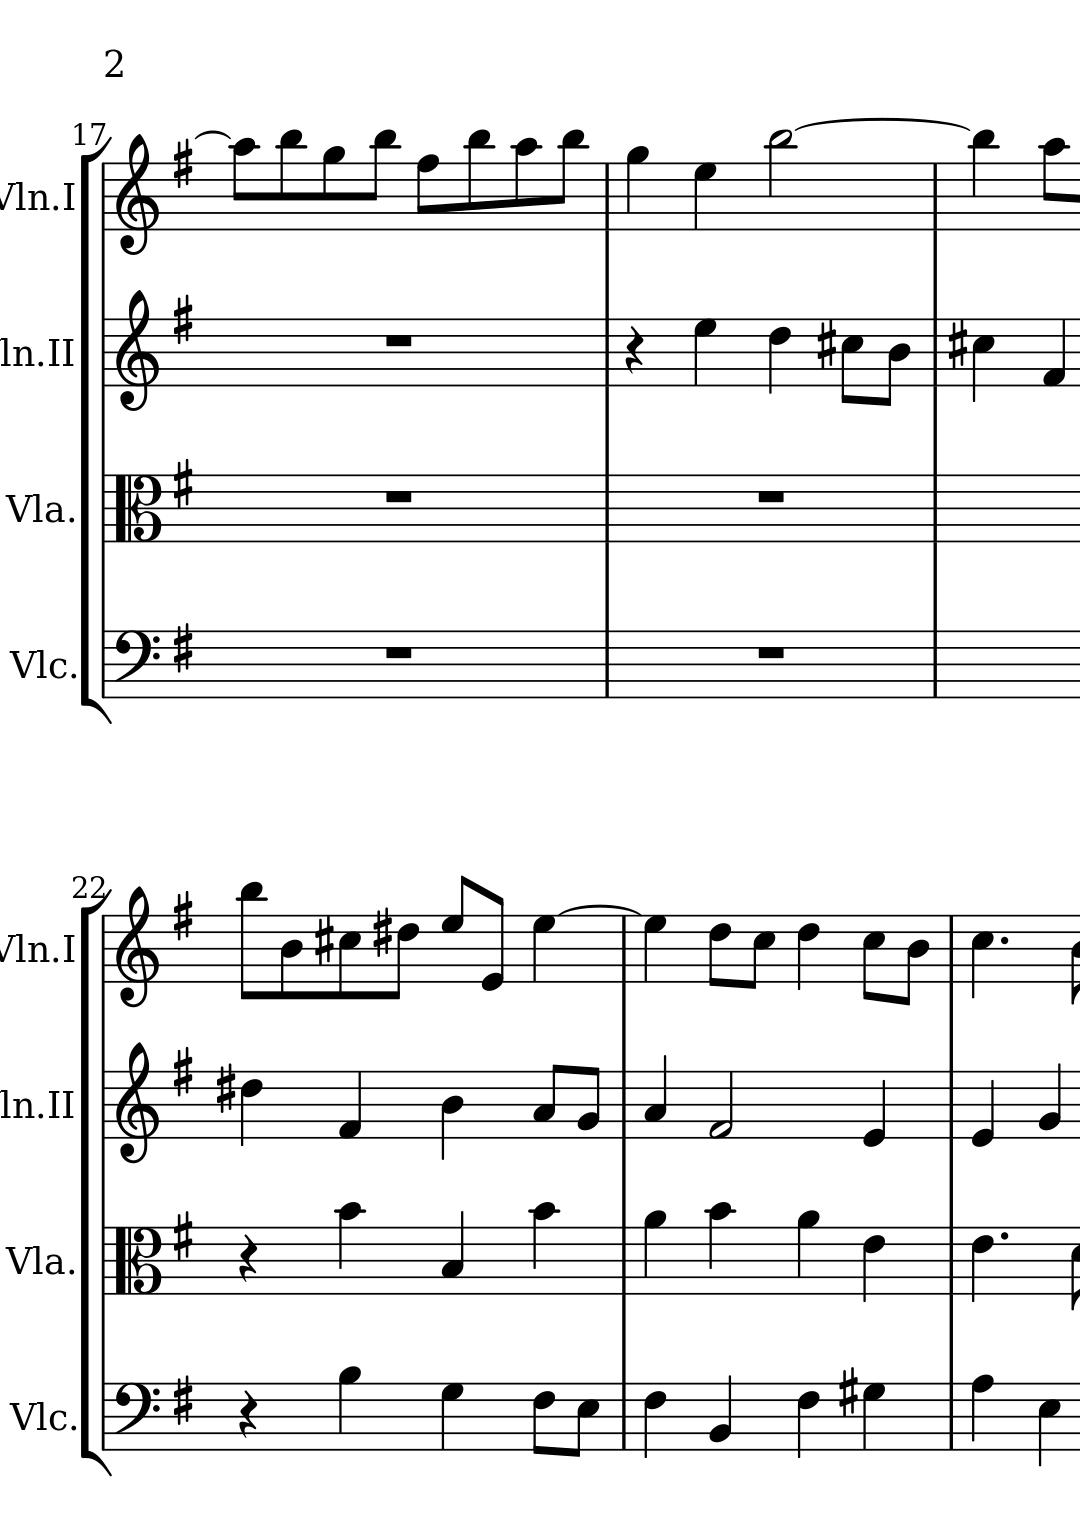1: (72, 120, 86, 148)
2: (101, 47, 125, 78), (86, 873, 108, 900), (69, 874, 88, 901)
2_1: (707, 1069, 735, 1143)
2_11: (764, 127, 792, 233)
4_0: (861, 1069, 888, 1148), (970, 1069, 996, 1148)
4_1: (1039, 317, 1067, 388), (335, 1070, 364, 1141)
4_10: (528, 1199, 558, 1297), (705, 1199, 733, 1298), (334, 1202, 362, 1297)
4_11: (969, 127, 996, 233)
4_2: (707, 1373, 734, 1453), (1037, 1062, 1062, 1141)
4_3: (439, 1209, 468, 1297), (642, 1053, 669, 1140)
4_4: (438, 1069, 464, 1162)
4_5: (1036, 1380, 1062, 1470), (970, 316, 996, 405), (969, 912, 994, 1001)
4_6: (641, 1381, 667, 1460), (968, 1225, 995, 1304), (795, 1381, 821, 1461), (766, 316, 791, 394), (795, 913, 821, 991), (860, 1225, 886, 1304), (238, 1069, 263, 1146)
4_7: (691, 316, 718, 388), (860, 1380, 887, 1452), (691, 160, 718, 231), (438, 1381, 465, 1452), (641, 912, 666, 986), (529, 912, 555, 984)
4_8: (967, 1373, 995, 1453)
4_9: (641, 1208, 667, 1297), (794, 1208, 821, 1297), (624, 144, 651, 231), (335, 1364, 361, 1452)
7: (90, 120, 108, 147)
8_0: (479, 891, 507, 993)
8_10: (229, 137, 259, 231), (511, 136, 538, 233), (1040, 136, 1067, 231)
8_11: (237, 880, 266, 1003), (365, 127, 399, 233), (553, 127, 586, 231), (276, 127, 304, 233), (464, 127, 492, 233)
8_2: (576, 1065, 601, 1140)
8_3: (531, 1062, 563, 1141)
8_4: (898, 913, 929, 1008), (879, 316, 911, 408), (277, 913, 303, 1001)
8_5: (567, 1380, 600, 1459), (745, 913, 776, 990), (335, 913, 361, 1002), (860, 912, 885, 1004), (839, 316, 864, 405)
8_6: (385, 912, 420, 1002), (529, 1381, 556, 1457), (706, 912, 732, 989)
8_7: (438, 873, 469, 984)
8_8: (414, 153, 439, 233)
8_9: (319, 145, 345, 233)
Bracke: (76, 887, 113, 1473), (77, 134, 112, 728)
Cclef: (111, 472, 162, 545), (112, 1225, 161, 1295)
Fclef: (112, 1380, 160, 1453), (112, 628, 162, 691)
Gclef: (113, 133, 161, 256), (113, 288, 159, 412), (115, 1040, 160, 1163), (113, 886, 159, 1008)
Rests1: (381, 485, 416, 507), (380, 641, 416, 662), (380, 330, 416, 350), (753, 486, 788, 505), (754, 642, 788, 661)
Rests4: (622, 324, 646, 376), (236, 1389, 259, 1440), (236, 1233, 259, 1284)
Sharp: (169, 292, 196, 346), (168, 456, 195, 510), (169, 1374, 195, 1427), (169, 620, 194, 676), (814, 317, 837, 371), (946, 317, 969, 371), (171, 138, 194, 189), (171, 889, 193, 942), (312, 914, 334, 967), (371, 905, 393, 957), (171, 1045, 193, 1098), (837, 1364, 858, 1418), (171, 1211, 192, 1261), (215, 1062, 235, 1114)
Single_barline: (596, 475, 616, 541), (614, 1382, 634, 1449), (926, 317, 944, 386), (926, 473, 944, 542), (926, 163, 944, 229), (616, 917, 635, 983), (942, 1071, 961, 1138), (615, 1228, 634, 1294), (942, 1228, 961, 1294), (597, 319, 616, 385), (598, 163, 616, 230), (95, 475, 112, 542), (615, 1071, 632, 1139), (597, 631, 615, 698), (95, 1228, 112, 1294), (942, 917, 960, 982), (942, 1383, 960, 1449), (96, 163, 112, 230), (927, 631, 943, 698), (96, 917, 112, 983), (96, 1384, 112, 1450), (97, 319, 112, 386), (96, 631, 111, 698), (97, 1071, 112, 1138)
Slur: (794, 116, 967, 132), (560, 905, 641, 917), (192, 130, 233, 141)
Vla: (4, 485, 67, 532), (4, 1239, 65, 1284)
Vlc: (7, 641, 70, 686), (7, 1394, 71, 1438)
Vln: (1, 174, 55, 215)
dot: (996, 1228, 1012, 1245), (996, 933, 1011, 948)
